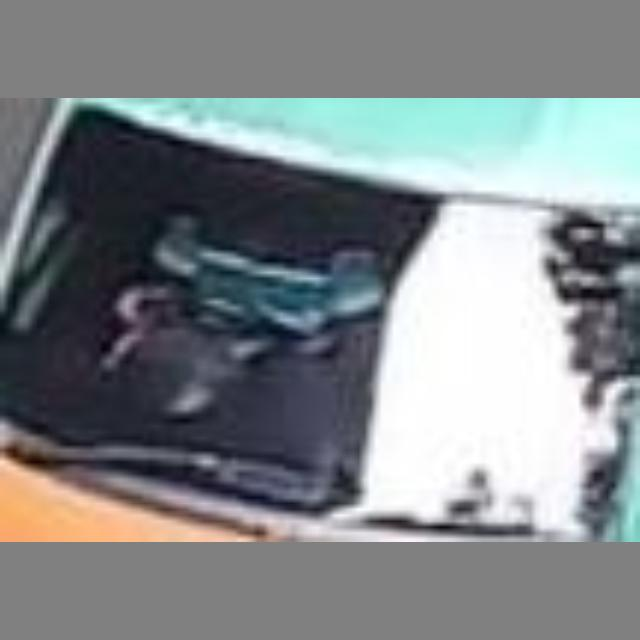tidak-pakai: (136, 187, 391, 394)
